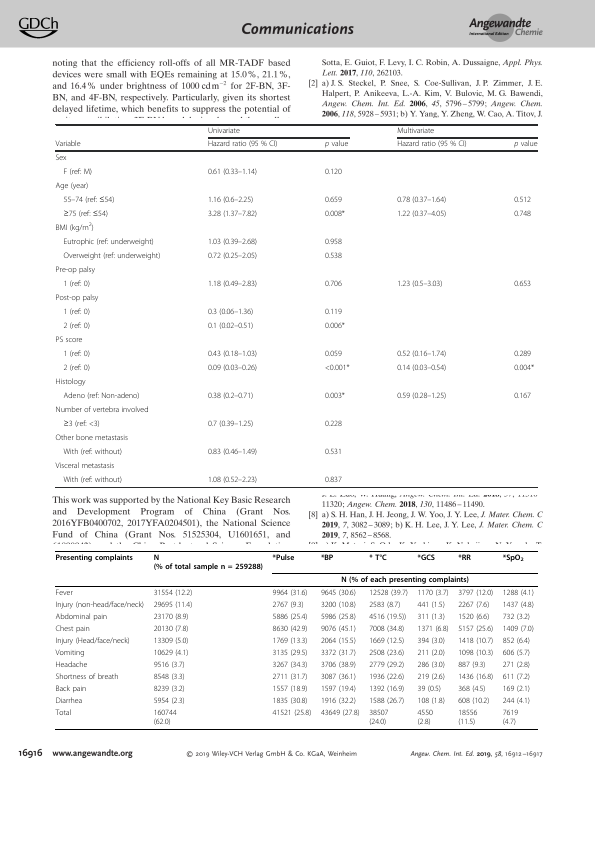borderless: (54, 123, 538, 487), (54, 549, 538, 729)
cell: (153, 553, 264, 571), (340, 575, 470, 585), (62, 251, 161, 261), (55, 405, 149, 415), (62, 237, 155, 247), (55, 600, 145, 610), (62, 391, 140, 401), (55, 636, 131, 646), (55, 433, 129, 443), (396, 140, 468, 150), (55, 553, 134, 562), (207, 140, 278, 150), (55, 672, 119, 682), (62, 447, 123, 457), (62, 475, 123, 485), (55, 461, 115, 471), (62, 195, 115, 205), (55, 612, 108, 622), (207, 167, 258, 177), (396, 195, 447, 205), (207, 209, 258, 219), (396, 209, 447, 219), (207, 237, 258, 247), (207, 251, 258, 261), (207, 279, 258, 289), (207, 349, 258, 359), (396, 349, 447, 359), (207, 363, 258, 373), (396, 363, 447, 373), (396, 391, 447, 401), (207, 447, 258, 457), (207, 475, 258, 485), (207, 195, 254, 205), (62, 209, 109, 219), (396, 279, 443, 289), (207, 307, 254, 317), (207, 321, 254, 331), (207, 391, 254, 401), (207, 419, 254, 429), (55, 222, 95, 233), (55, 293, 99, 303), (153, 708, 177, 726), (55, 265, 96, 275), (368, 588, 409, 598), (153, 588, 193, 598), (153, 600, 193, 610), (62, 419, 101, 429), (368, 612, 407, 622), (368, 708, 389, 726), (457, 708, 478, 726), (320, 588, 357, 598), (457, 588, 494, 598), (320, 600, 357, 610), (320, 612, 357, 622), (320, 624, 357, 634), (368, 624, 405, 634), (457, 624, 494, 634), (320, 636, 357, 646), (368, 636, 405, 646), (457, 636, 494, 646), (320, 648, 357, 658), (368, 648, 405, 658), (457, 648, 494, 658), (320, 660, 357, 670), (368, 660, 405, 670), (320, 672, 357, 682), (368, 672, 405, 682), (457, 672, 494, 682), (272, 588, 308, 598), (153, 612, 189, 622), (272, 612, 308, 622), (55, 624, 91, 634), (153, 624, 189, 634), (272, 624, 308, 634), (153, 636, 189, 646), (272, 636, 308, 646), (153, 648, 189, 658), (272, 648, 308, 658), (272, 660, 308, 670), (272, 672, 308, 682), (272, 708, 312, 717), (320, 708, 360, 717), (396, 127, 435, 136), (55, 181, 89, 191), (320, 684, 357, 693), (368, 684, 405, 693), (320, 696, 357, 705), (368, 696, 405, 705), (416, 588, 449, 598), (502, 588, 535, 598), (272, 600, 305, 610), (368, 600, 401, 610), (457, 600, 490, 610), (502, 600, 535, 610), (457, 612, 490, 622), (416, 624, 449, 634), (502, 624, 535, 634), (55, 660, 88, 670), (153, 660, 186, 670), (153, 672, 186, 682), (272, 684, 308, 693), (272, 696, 308, 705), (416, 708, 434, 726), (62, 167, 93, 177), (55, 377, 86, 387), (207, 127, 241, 136), (502, 708, 519, 726), (416, 600, 446, 610), (416, 612, 446, 622), (416, 636, 446, 646), (55, 648, 85, 658), (416, 648, 446, 658), (416, 660, 446, 670), (416, 672, 446, 682), (153, 684, 186, 693), (153, 696, 186, 705), (457, 696, 490, 705), (62, 279, 91, 289), (62, 307, 91, 317), (62, 321, 91, 331), (62, 349, 91, 359), (62, 363, 91, 373), (502, 612, 531, 622), (502, 636, 531, 646), (502, 648, 531, 658), (457, 660, 486, 670), (502, 660, 531, 670), (502, 672, 531, 682), (55, 684, 87, 693), (55, 335, 83, 345), (324, 363, 351, 373), (416, 696, 446, 705), (457, 684, 486, 693), (502, 684, 531, 693), (502, 696, 531, 705), (55, 140, 81, 150), (55, 696, 83, 705), (324, 140, 349, 150), (513, 140, 538, 150), (416, 684, 442, 693), (502, 553, 525, 563), (324, 209, 346, 219), (324, 321, 346, 331), (513, 363, 535, 373), (324, 391, 346, 401), (272, 553, 295, 562), (324, 167, 343, 177), (324, 195, 343, 205), (513, 195, 532, 205), (513, 209, 532, 219), (324, 237, 343, 247), (324, 251, 343, 261), (324, 279, 343, 289), (513, 279, 532, 289), (324, 307, 343, 317), (324, 349, 343, 359), (513, 349, 532, 359), (513, 391, 532, 401), (324, 419, 343, 429), (324, 447, 343, 457), (324, 475, 343, 485), (55, 588, 74, 598), (368, 553, 388, 562), (416, 553, 436, 562), (55, 708, 72, 717), (457, 553, 472, 562), (320, 553, 334, 562), (55, 153, 67, 163)
